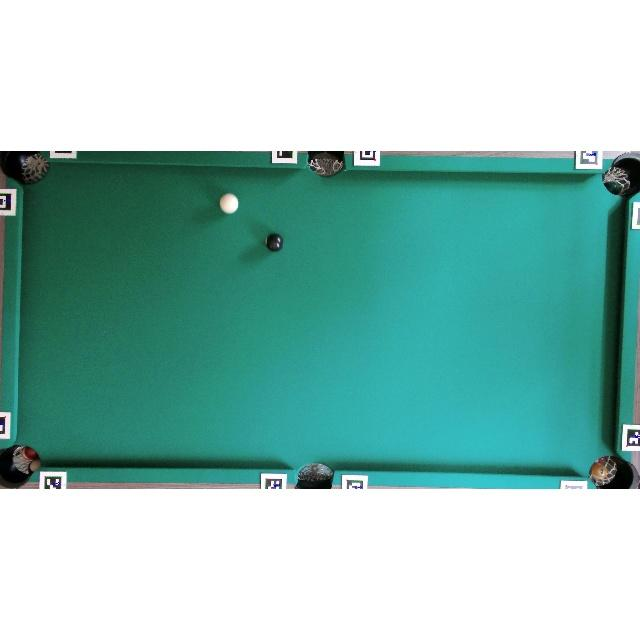cue ball: (218, 192, 240, 215)
other: (264, 232, 284, 252)
